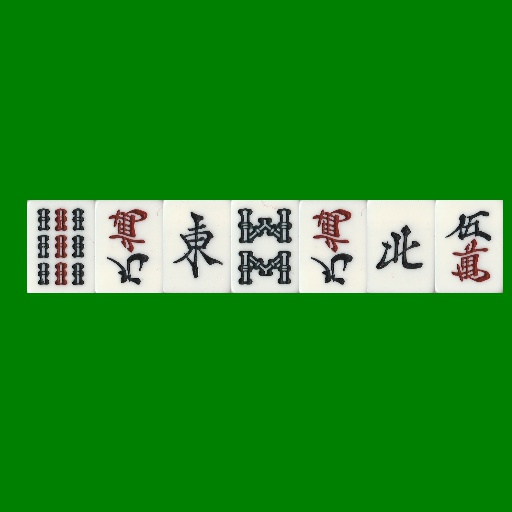5m: (435, 200, 503, 293)
8s: (231, 200, 299, 293)
9m: (95, 200, 163, 293), (299, 200, 367, 293)
9s: (27, 200, 95, 293)
east: (163, 200, 231, 293)
north: (367, 200, 435, 293)
